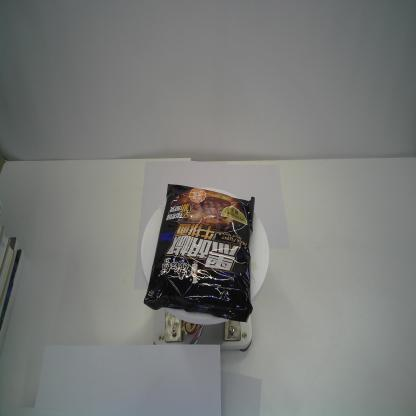Instant Noodles: (144, 183, 255, 322)
